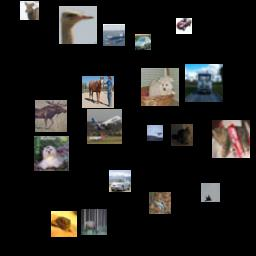airplane: (87, 109, 122, 144), (201, 183, 220, 202)
automobile: (109, 170, 131, 192), (176, 18, 192, 34), (135, 34, 151, 50)
bird: (59, 6, 97, 44), (149, 192, 171, 214), (147, 125, 163, 141)
cat: (212, 120, 250, 158), (171, 124, 193, 146)
deer: (35, 100, 67, 132), (81, 209, 107, 235), (20, 1, 39, 20)
dog: (141, 68, 179, 106), (34, 136, 69, 171)
frog: (51, 211, 77, 237)
ship: (103, 24, 125, 46)
truck: (185, 64, 223, 102)
